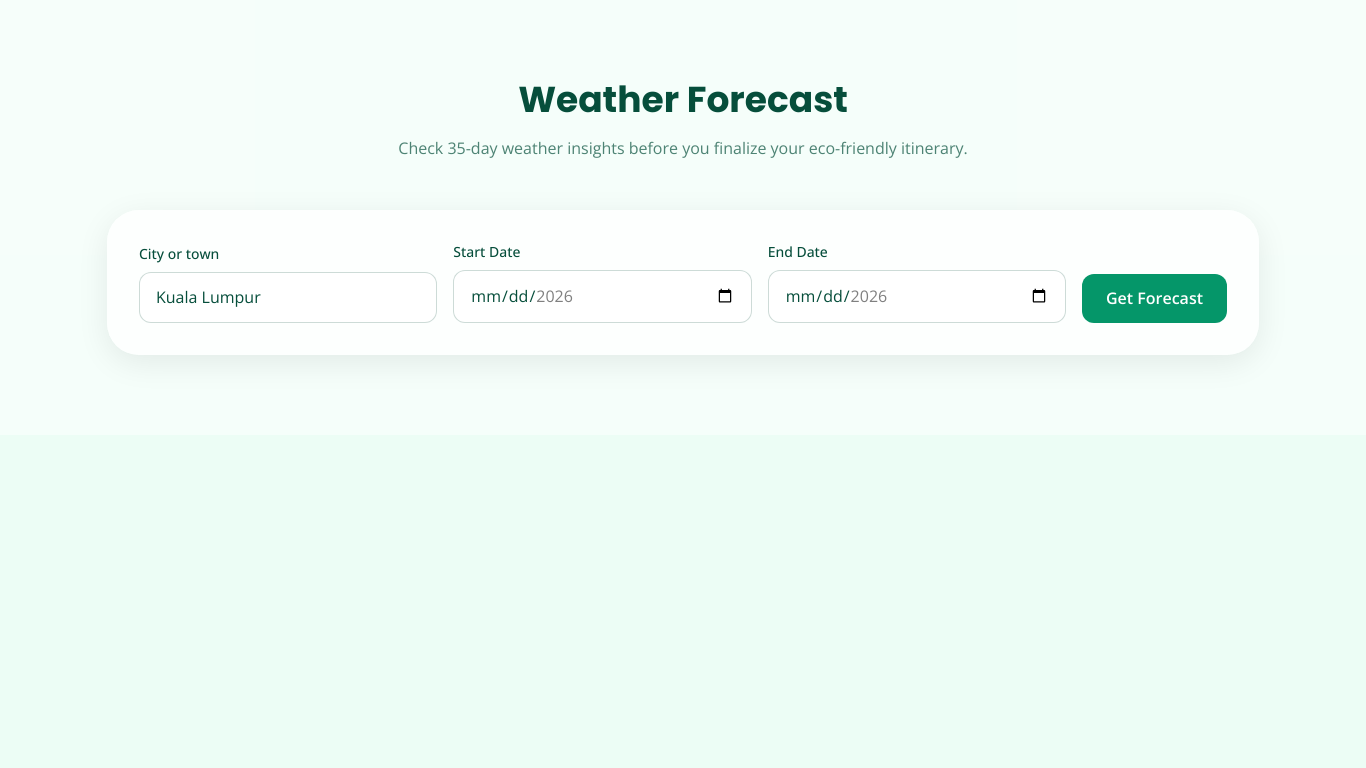
WeatherForecastSection › renders a successful forecast response
Replace the text in the field labelled "City or town" with "Kyoto" at {"x": 288, "y": 297}, box [139,272,437,323]
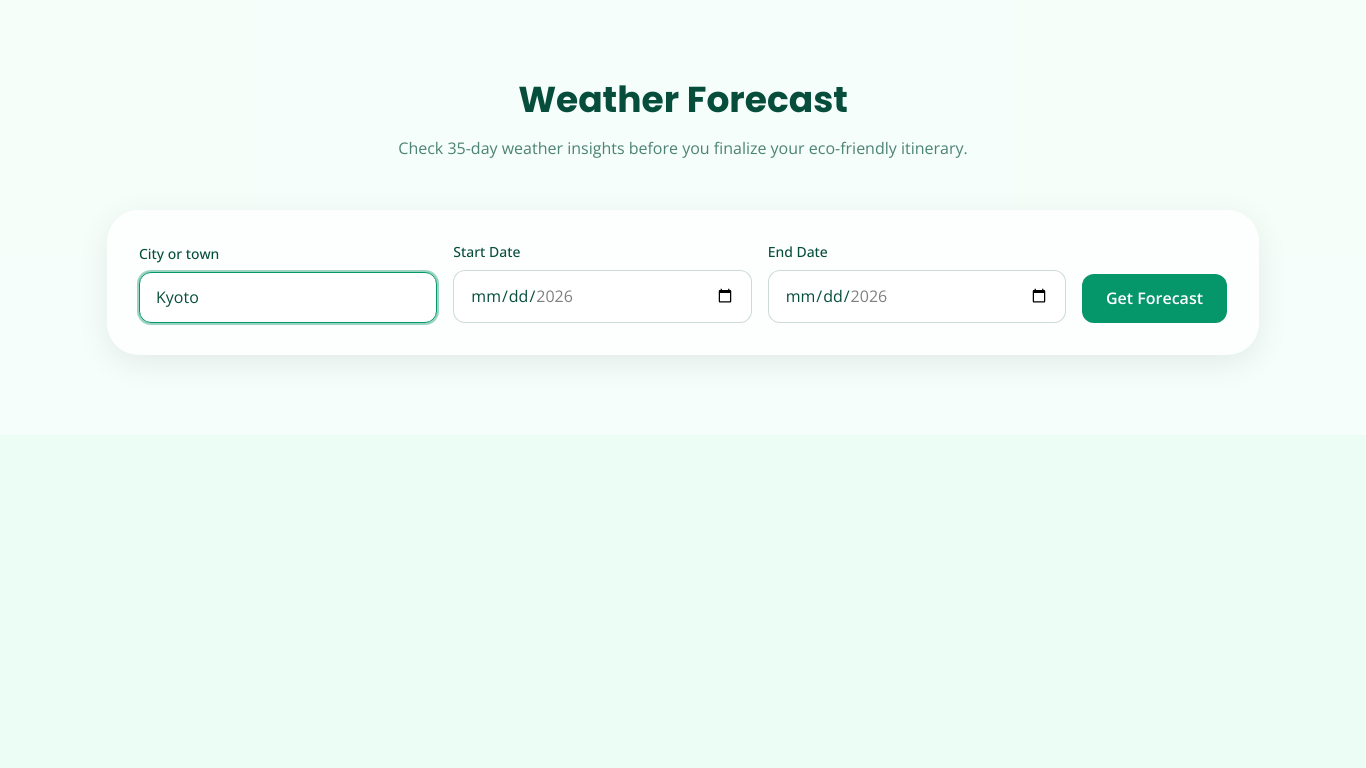
Click the button "Get Forecast" at {"x": 1154, "y": 298}, box [1082,274,1227,323]
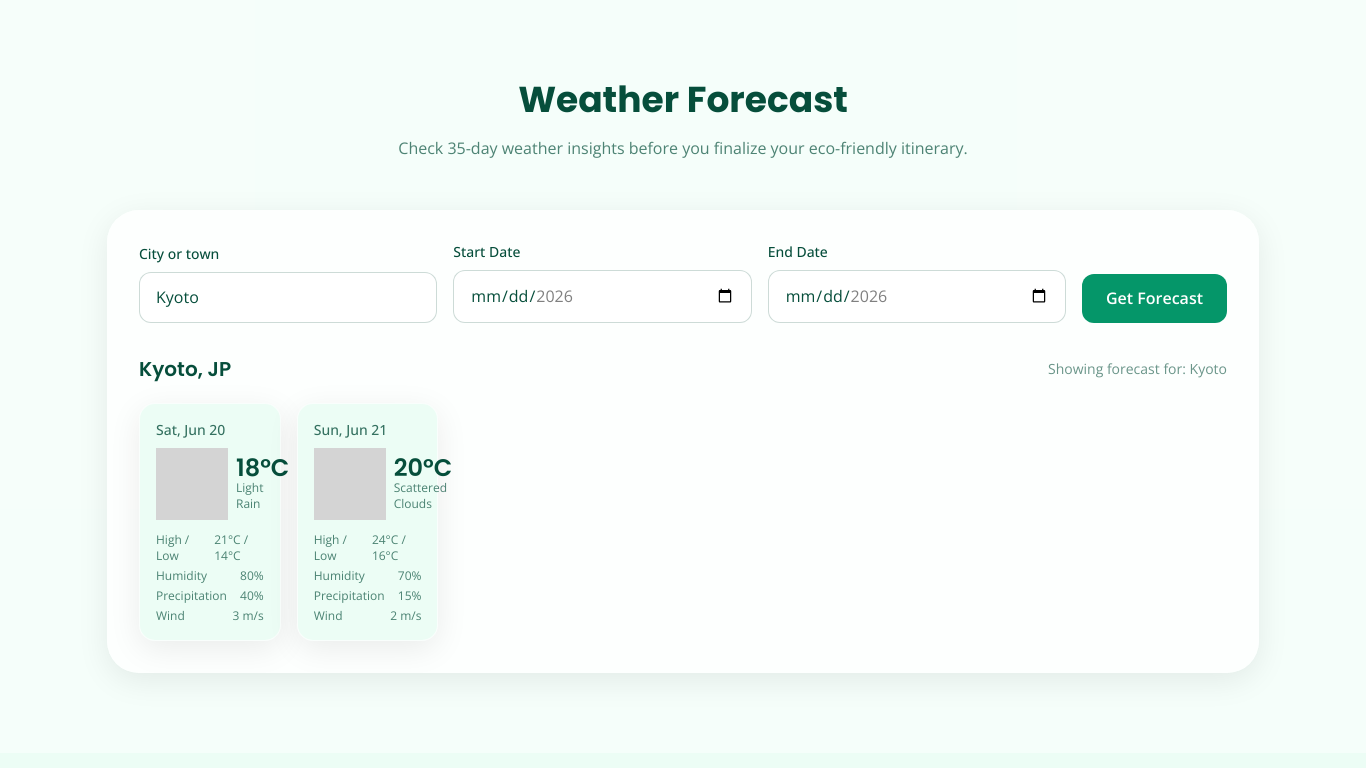
Expected: the heading "Kyoto, JP" is shown, [139,355,231,383]
Expected: the text "Showing forecast for: Kyoto" is shown, [1048,359,1227,379]
Expected: the text "18°C" is shown, [236,456,289,480]
